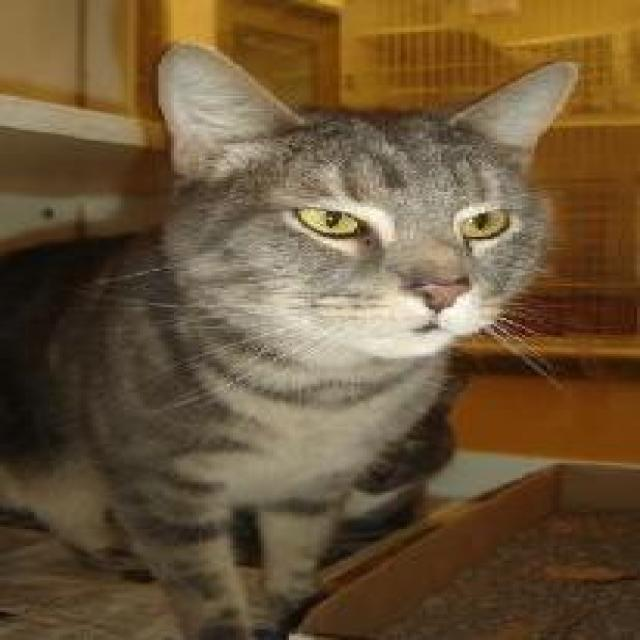Cats: (0, 38, 581, 638)
